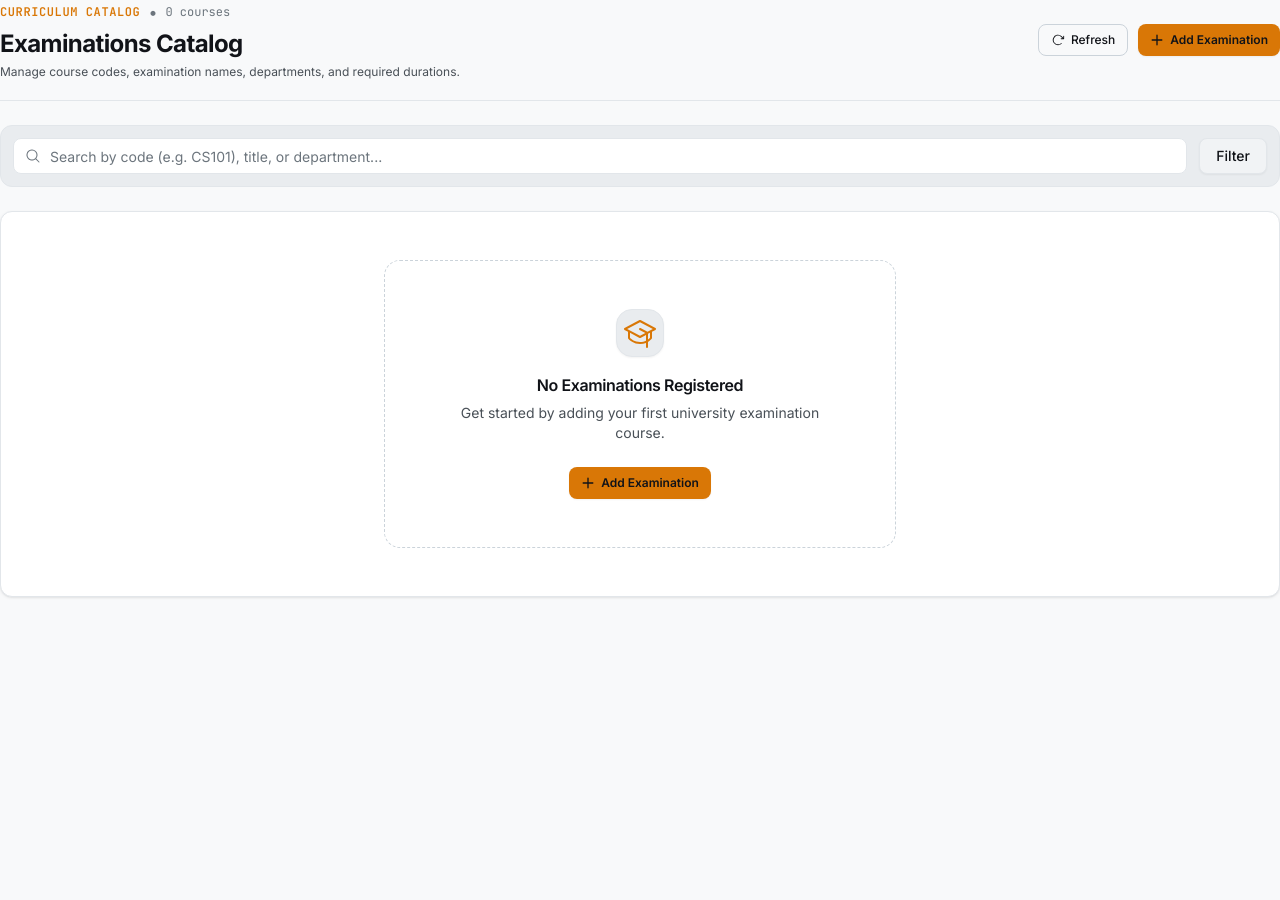
Test case: Phase 5 Integration Tests › ExaminationsPage › opens Add Examination dialog on button click
Click the button "Add Examination" in the row of "Examinations Catalog" at (1209, 40), box left=1138, top=24, right=1279, bottom=56
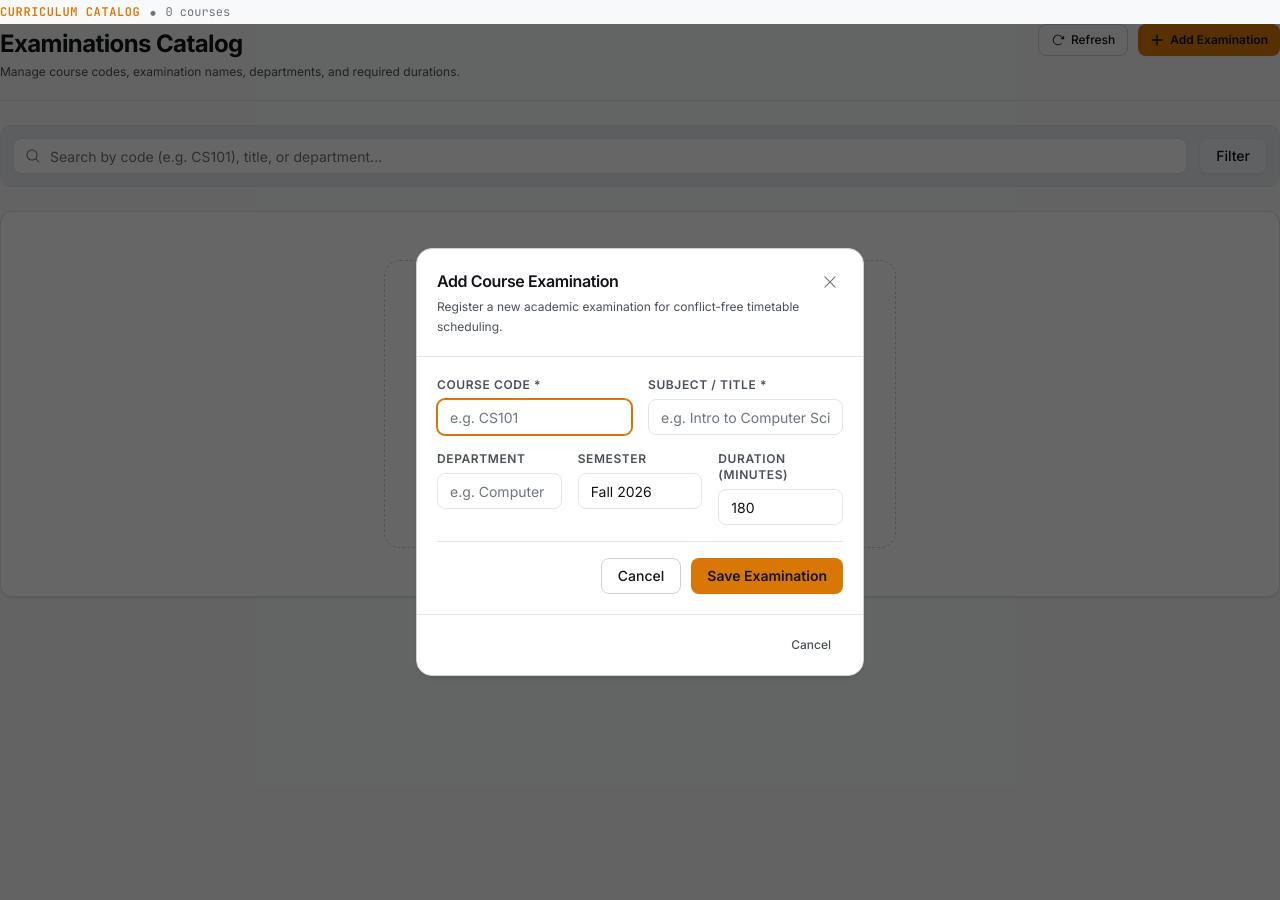
Now the heading "Add Course Examination" is shown, box left=437, top=271, right=618, bottom=291
Now the field with placeholder "e.g. CS101" is shown, box left=437, top=399, right=632, bottom=435
